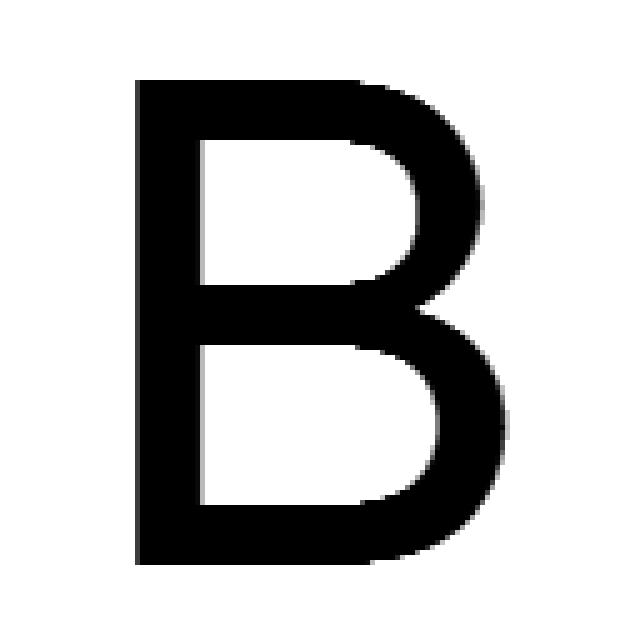B: (130, 80, 510, 575)
